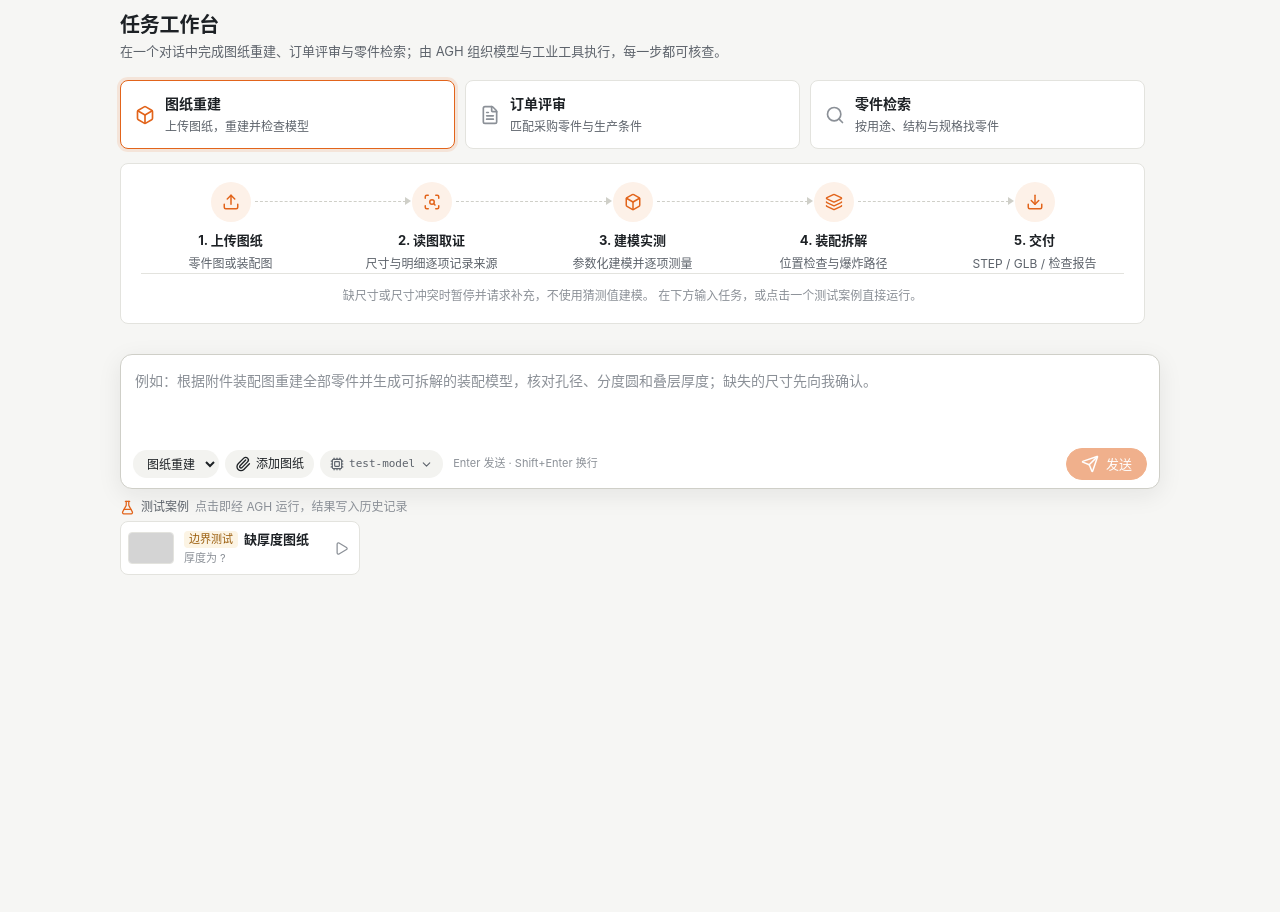
Test: TaskWorkspace input and execution evidence › shows each submission as a conversation turn above a fixed composer and clears the draft
The image size is (1280, 912).
Select "零件检索" in the dropdown named "任务类型" at point(176, 464), box [133, 450, 219, 478]
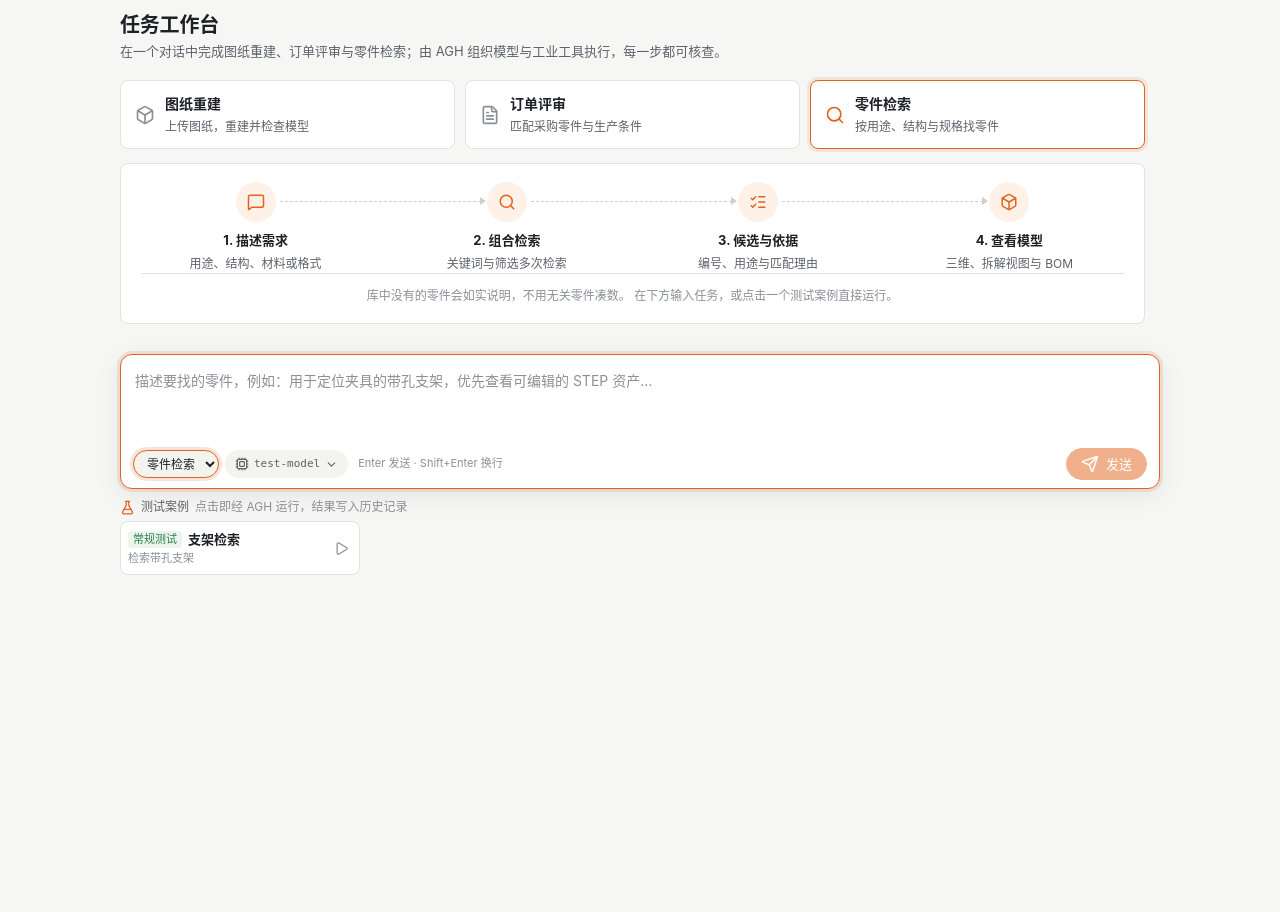
Type "查找定位支架" into the text box named "这次需要完成什么？".
click(640, 403); type("查找定位支架")  # box [133, 365, 1147, 442]
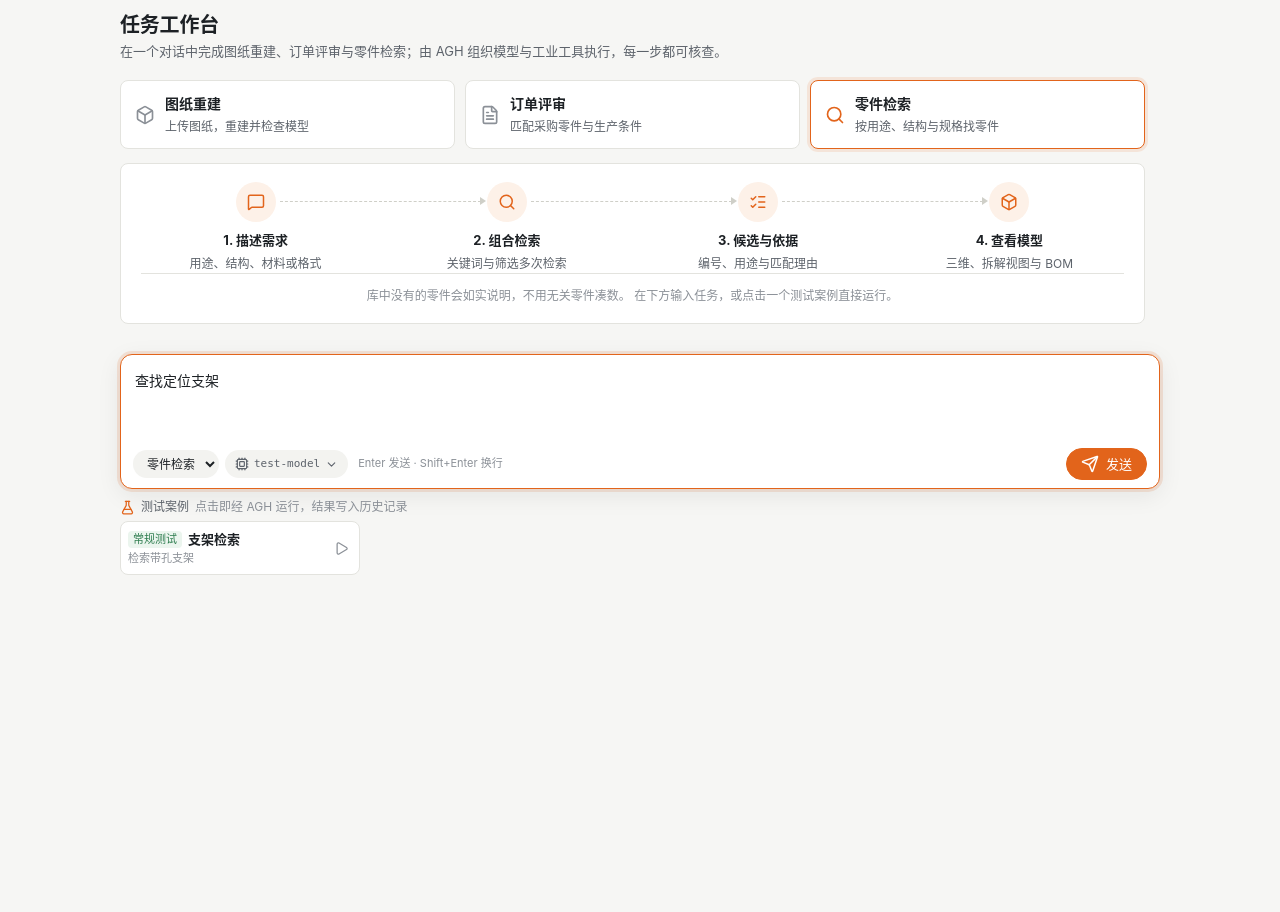
Click the button with aria-label "开始任务".
click(1106, 464)  # box [1066, 448, 1147, 480]
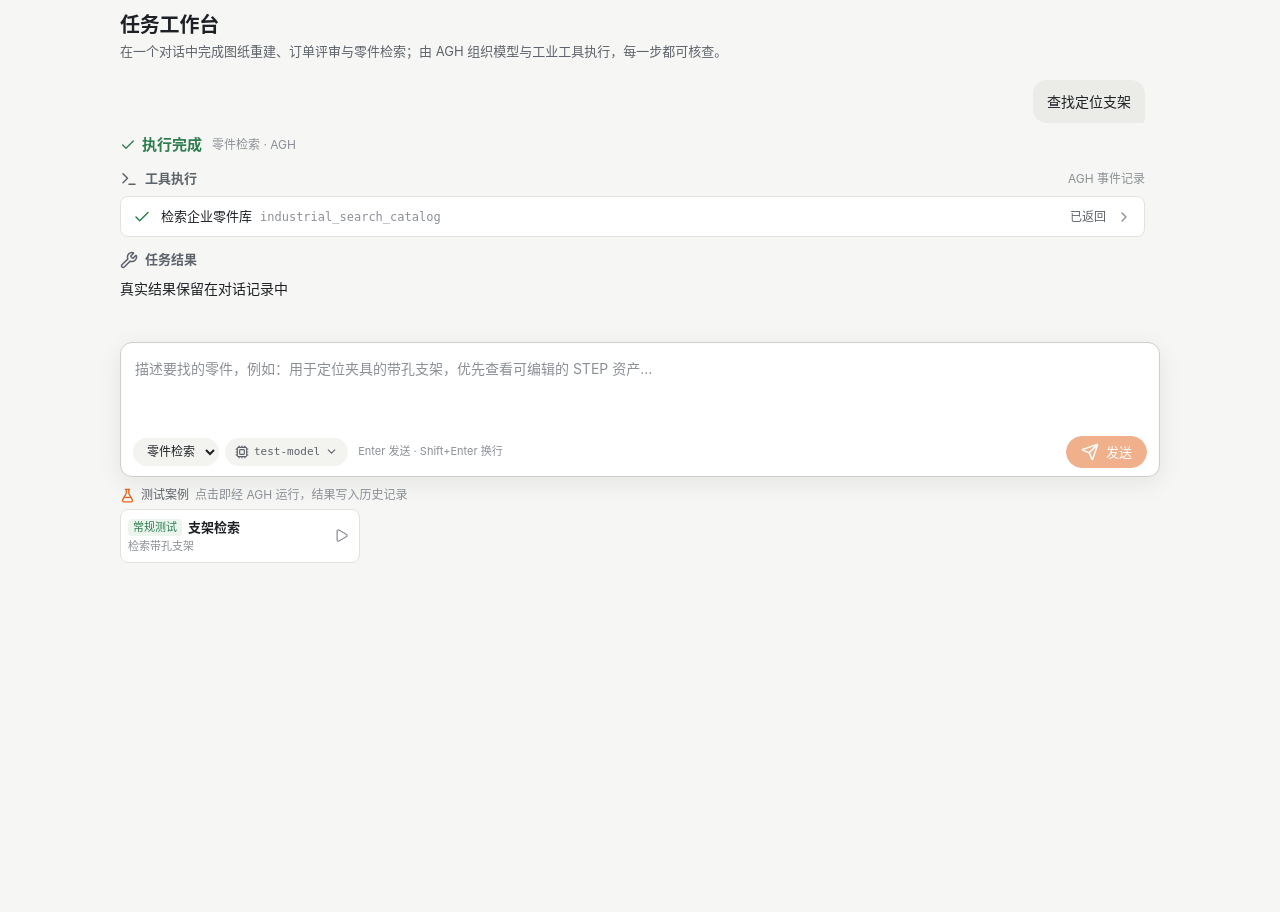
Expected: the text "真实结果保留在对话记录中" is shown, [120, 280, 288, 297]
Expected: the element named "对话记录" shows "查找定位支架", [1047, 93, 1131, 110]
Expected: the text "industrial_search_catalog" is shown, [260, 210, 441, 224]
Type "第二轮检索" into the text box named "这次需要完成什么？".
click(640, 391); type("第二轮检索")  # box [133, 353, 1147, 430]
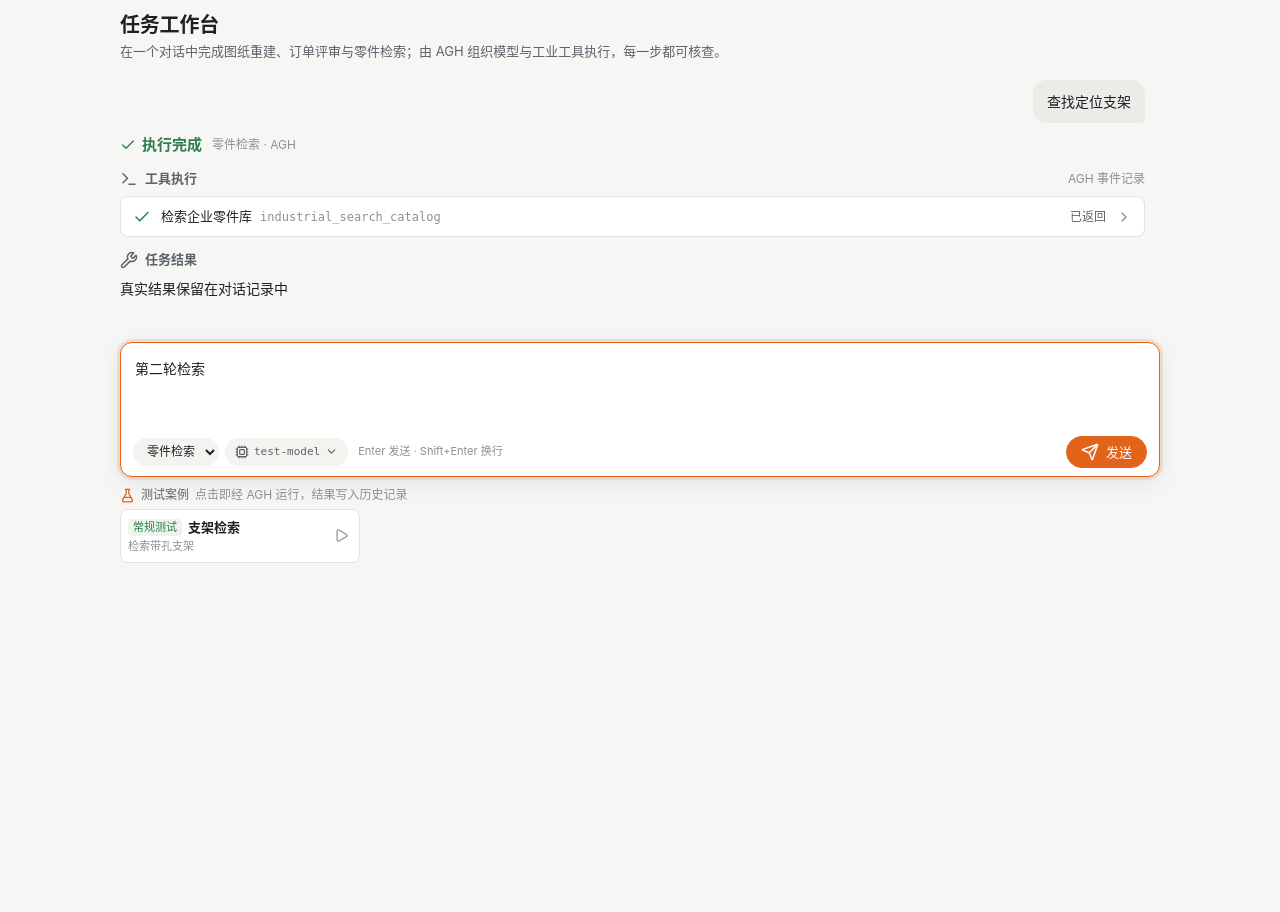
Click the button with aria-label "开始任务".
click(1106, 452)  # box [1066, 436, 1147, 468]
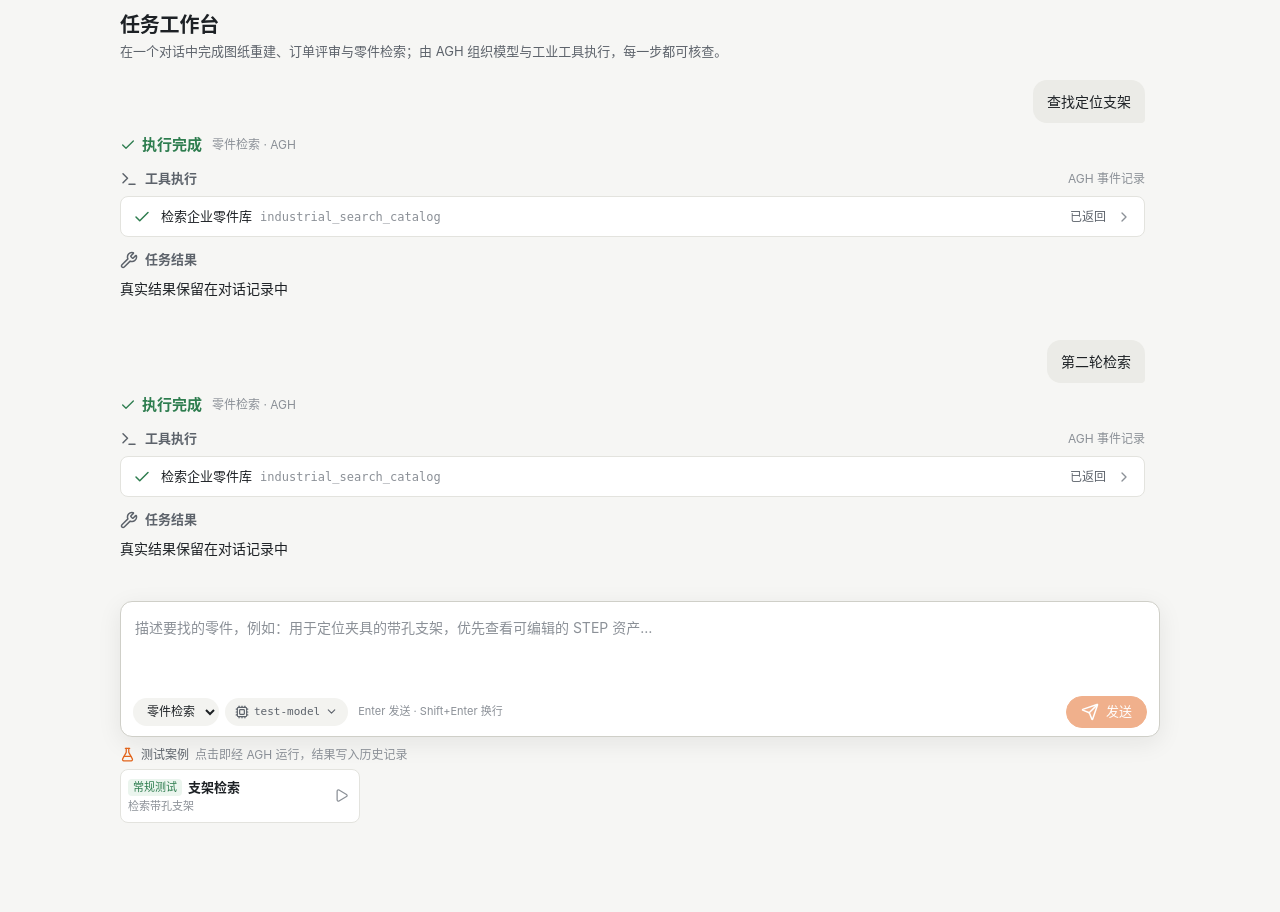
Expected: the number of elements named "本次任务记录" is 2, [120, 135, 1145, 312]; [120, 395, 1145, 571]
